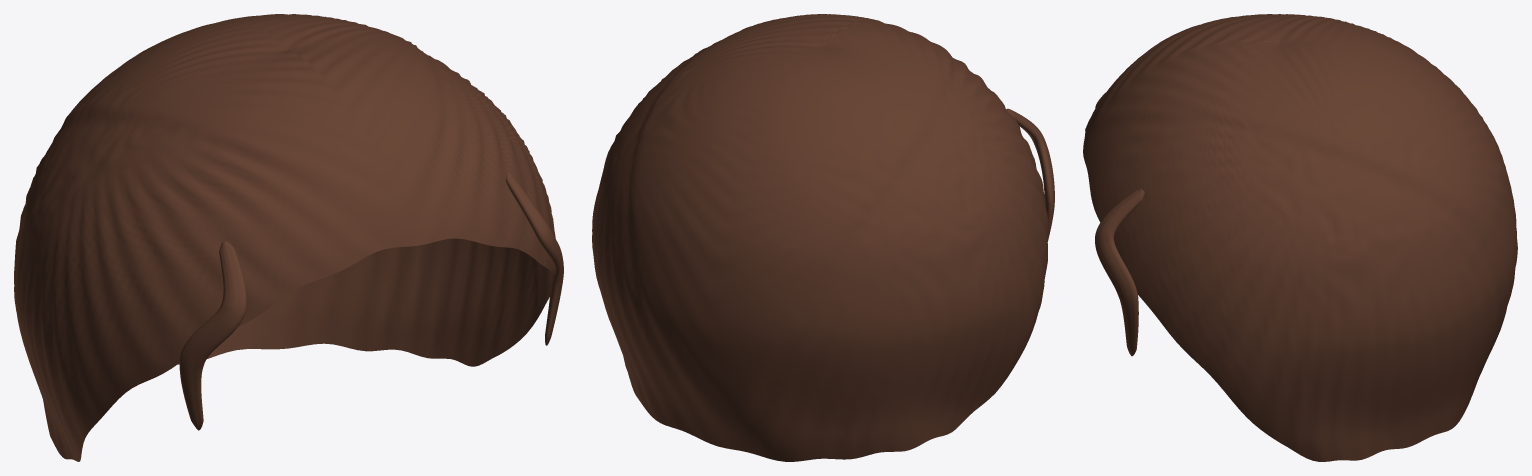
The model's file is space-buns-pashmina.glb.
3 views of the same model, side by side, from view 1: azimuth 30°, elevation 25°; view 2: azimuth 150°, elevation 25°; view 3: azimuth 270°, elevation 25° (orthographic). The views are drawn at different scales.
Visible parts, largest first — view 1: 226 hair / Hair / chestnut226.001; view 2: 226 hair / Hair / chestnut226.001; view 3: 226 hair / Hair / chestnut226.001.
Boxes of the visible parts, x1=… form: 226 hair / Hair / chestnut226.001: x1=14, y1=14, x2=563, y2=461; 226 hair / Hair / chestnut226.001: x1=592, y1=14, x2=1054, y2=461; 226 hair / Hair / chestnut226.001: x1=1083, y1=14, x2=1517, y2=461.
Bounding box in the file's own units: 0.7957 × 0.6428 × 0.727.
